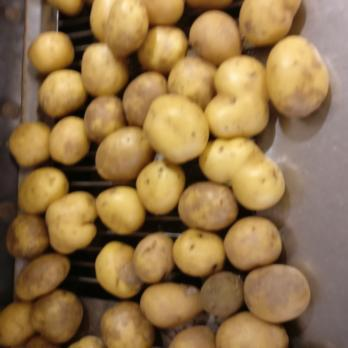Solid potato: (89, 0, 326, 348), (12, 31, 85, 348)
